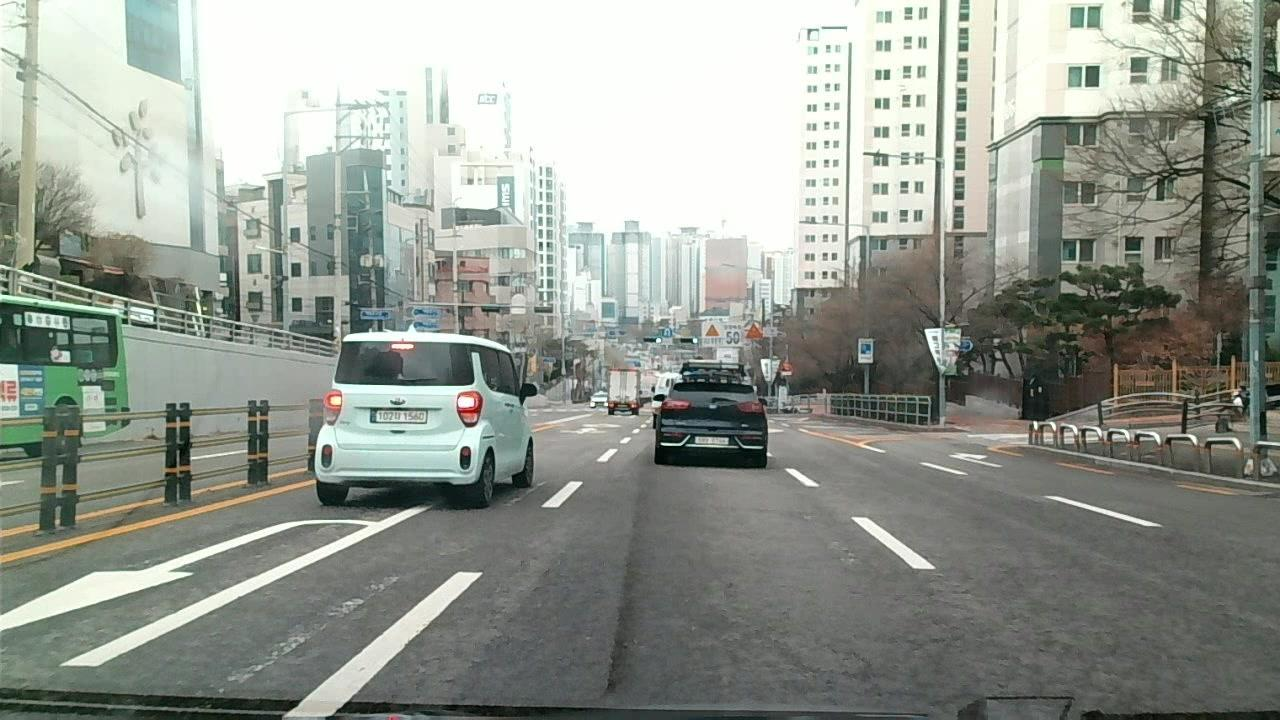banner: (211, 575, 390, 695), (601, 523, 638, 699)
